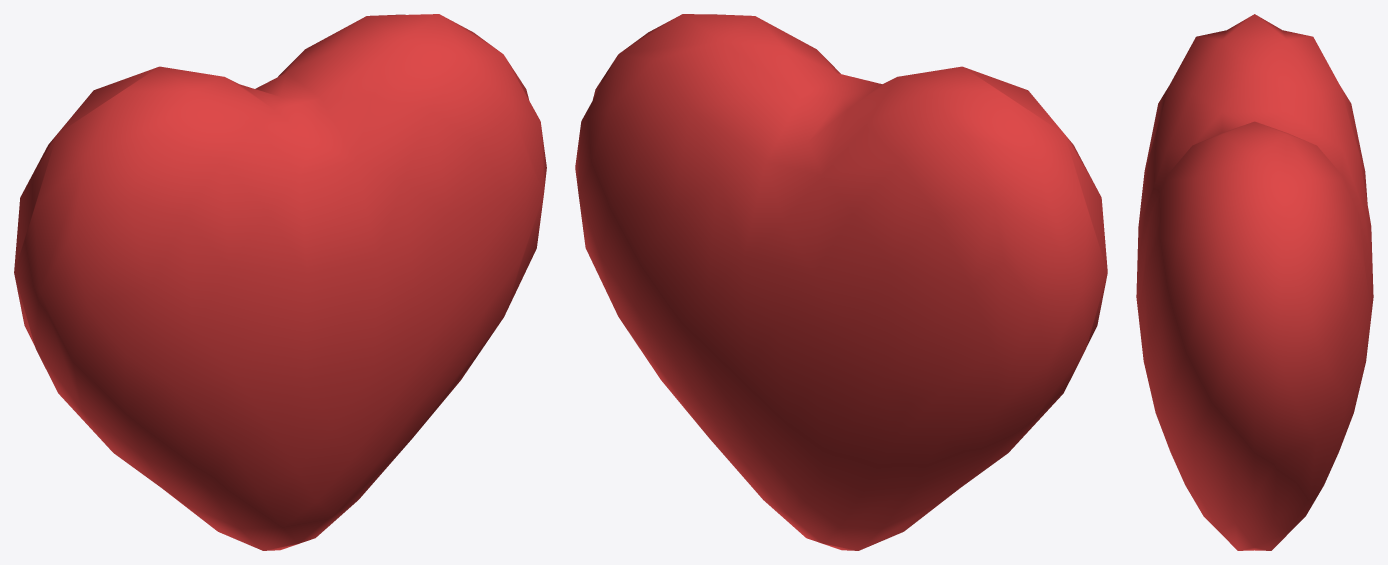
Rendered from Heart.fbx.
3 renders of one model, left to right at view 1: azimuth 30°, elevation 25°; view 2: azimuth 150°, elevation 25°; view 3: azimuth 270°, elevation 25°, orthographic. The views are drawn at different scales.
Visible parts, largest first — view 1: 12190_Heart_v1_L3; view 2: 12190_Heart_v1_L3; view 3: 12190_Heart_v1_L3.
Boxes of the visible parts, <box> form: 12190_Heart_v1_L3: <box>14,14,546,550</box>; 12190_Heart_v1_L3: <box>575,14,1107,550</box>; 12190_Heart_v1_L3: <box>1136,14,1373,550</box>.
Bounding box in the file's own units: 910 × 2097 × 1965.
